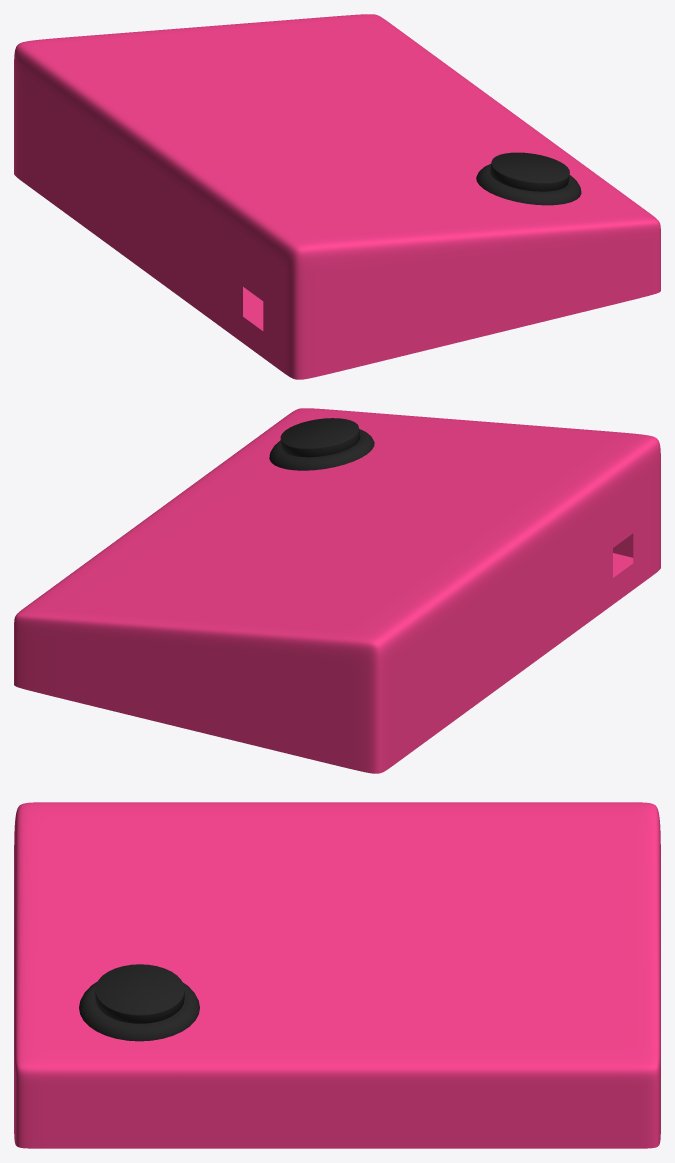
File: beato2.gltf
The picture shows the model from 3 angles, top to bottom: view 1: azimuth 30°, elevation 25°; view 2: azimuth 150°, elevation 25°; view 3: azimuth 270°, elevation 25°; orthographic projection. The views are drawn at different scales.
Parts seen in each view (by area): view 1: negro, Cylinder, Cylinder.006; view 2: negro, Cylinder, Cylinder.006; view 3: negro, Cylinder, Cylinder.006.
Boxes of the visible parts, bbox=[...] form: negro: bbox=[14, 14, 660, 379]; Cylinder: bbox=[490, 152, 569, 191]; Cylinder.006: bbox=[476, 164, 581, 205]; negro: bbox=[14, 408, 660, 773]; Cylinder: bbox=[280, 418, 360, 457]; Cylinder.006: bbox=[269, 429, 374, 470]; negro: bbox=[14, 802, 660, 1148]; Cylinder: bbox=[95, 964, 184, 1023]; Cylinder.006: bbox=[79, 981, 199, 1041].
Size of the model in its own units: 0.13 by 0.044 by 0.175.
